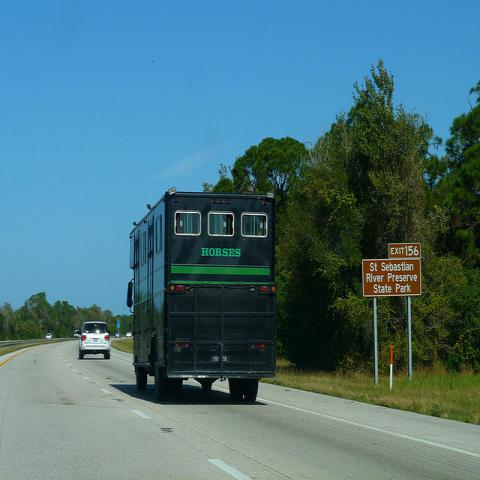car: (76, 320, 112, 360), (44, 332, 52, 340), (126, 332, 133, 339), (114, 332, 121, 339)
truck: (130, 195, 278, 400)
